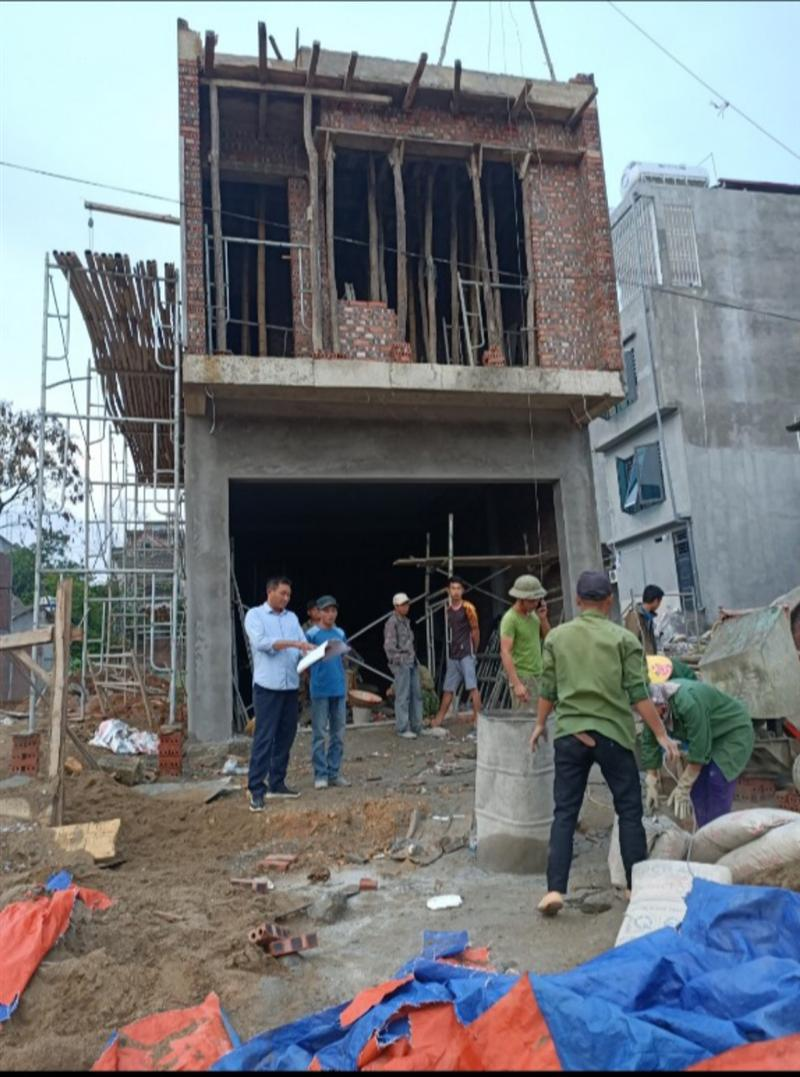Gloves: (666, 781, 693, 821)
Helmet: (508, 576, 543, 602), (312, 596, 339, 612), (390, 594, 410, 607)
Person: (527, 570, 681, 916), (638, 676, 755, 831), (242, 575, 314, 812), (303, 594, 351, 789), (430, 575, 482, 729), (498, 573, 551, 709), (383, 592, 424, 739)
Safety Boot: (313, 766, 353, 793), (535, 889, 564, 917), (266, 779, 301, 799), (244, 789, 269, 811)
Safety Vest: (551, 627, 632, 741)
bare-arms: (525, 722, 557, 750), (658, 733, 681, 767), (509, 679, 531, 704)
no-helmet: (577, 572, 619, 598), (263, 569, 291, 588), (446, 577, 464, 589)
no-vest: (246, 607, 301, 687), (306, 634, 346, 697), (502, 614, 534, 678), (448, 604, 477, 657), (384, 618, 414, 667)
